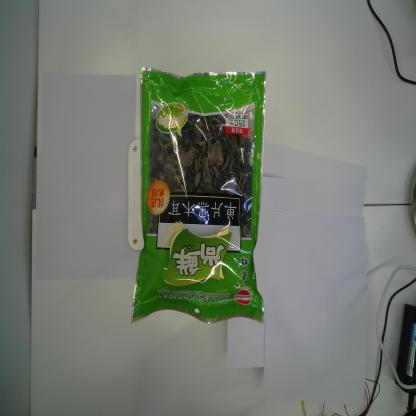Dried Food: (131, 66, 266, 326)
